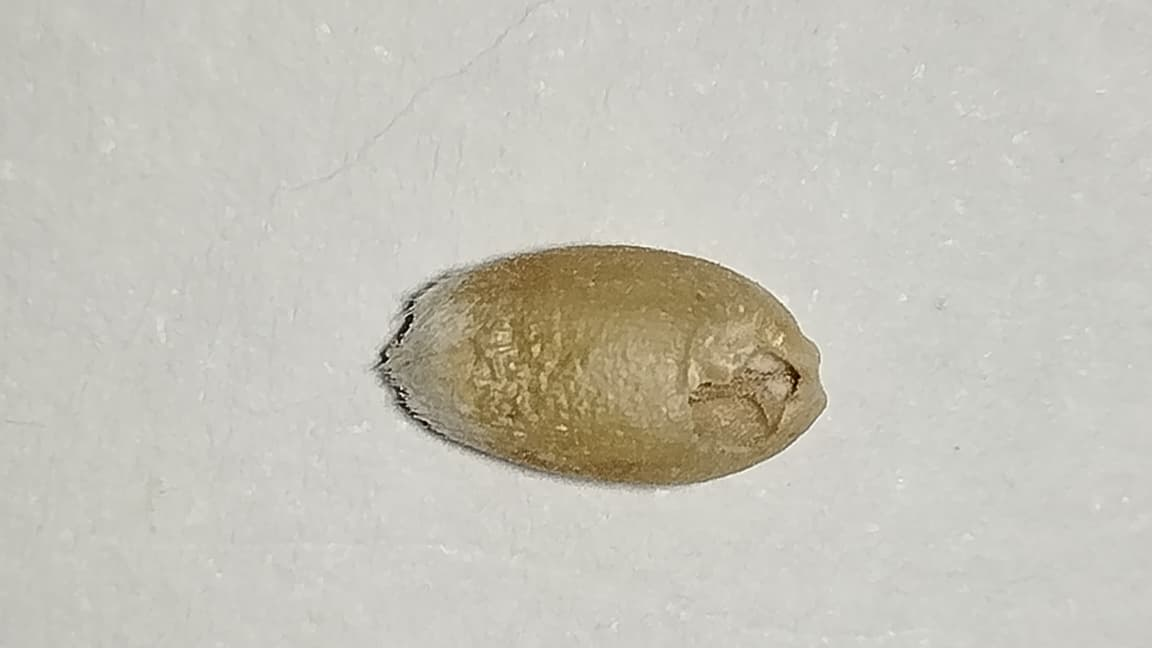damage: (378, 246, 825, 485)
insectdamage: (684, 286, 815, 463)
